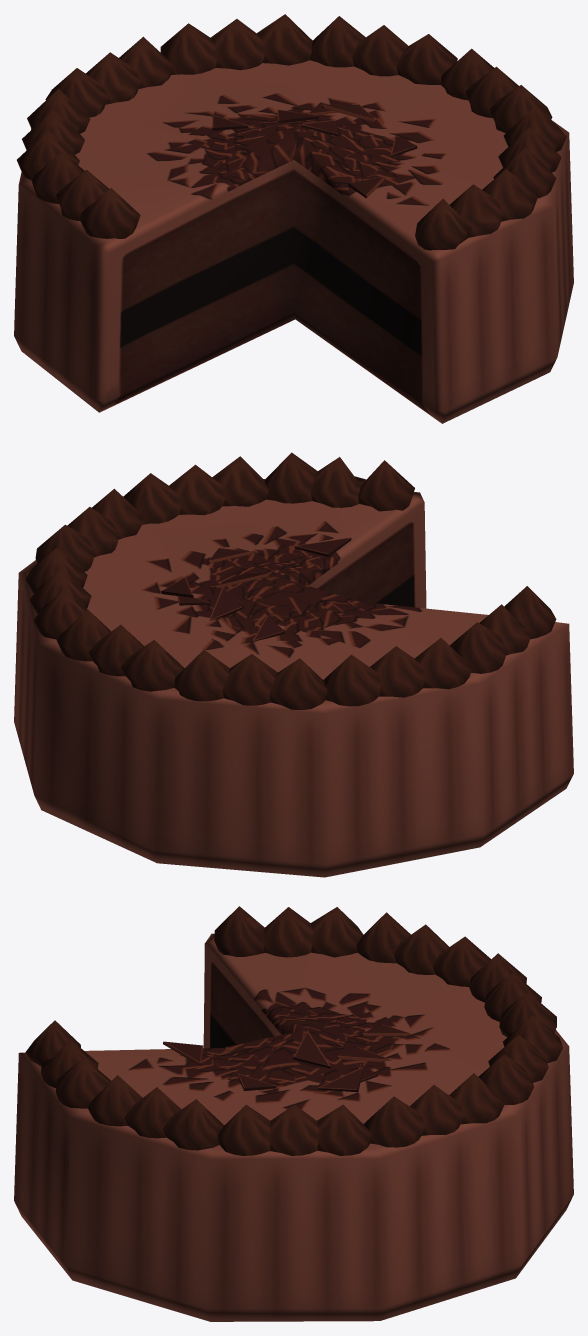
The model's file is Chocolate_Cut.fbx.
3 views of the same model, one above another, from view 1: azimuth 30°, elevation 25°; view 2: azimuth 150°, elevation 25°; view 3: azimuth 270°, elevation 25° (orthographic).
Visible parts, largest first — view 1: Chocolate_Cake_Cut; view 2: Chocolate_Cake_Cut; view 3: Chocolate_Cake_Cut.
Part boxes in pixels (<box>): Chocolate_Cake_Cut: <box>14,14,573,423</box>; Chocolate_Cake_Cut: <box>14,452,573,877</box>; Chocolate_Cake_Cut: <box>14,906,573,1321</box>.
Bounding box in the file's own units: 79.34 × 33.05 × 81.81.
